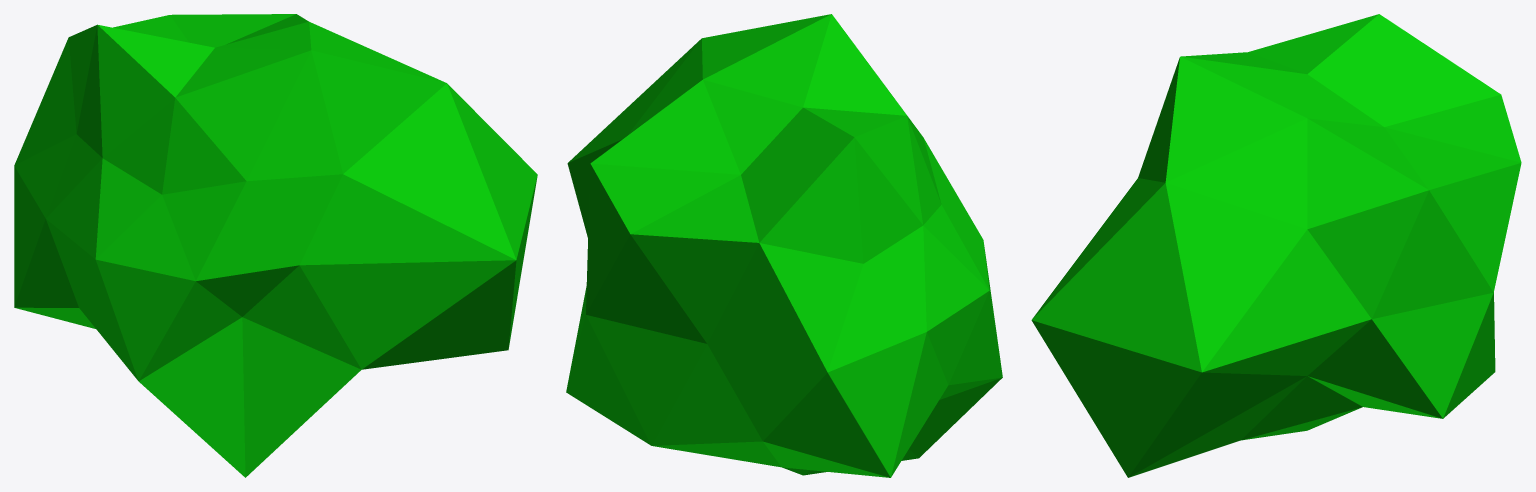
Rendered from escultura.obj.
3 renders of one model, left to right at view 1: azimuth 30°, elevation 25°; view 2: azimuth 150°, elevation 25°; view 3: azimuth 270°, elevation 25°, orthographic. The views are drawn at different scales.
Visible parts, largest first — view 1: escultura_Icosphere; view 2: escultura_Icosphere; view 3: escultura_Icosphere.
Boxes of the visible parts, left/top/right/bottom form: escultura_Icosphere: left=14, top=14, right=537, bottom=477; escultura_Icosphere: left=566, top=14, right=1002, bottom=477; escultura_Icosphere: left=1031, top=14, right=1521, bottom=477.
Size of the model in its own units: 0.6128 by 0.5649 by 0.6007.
